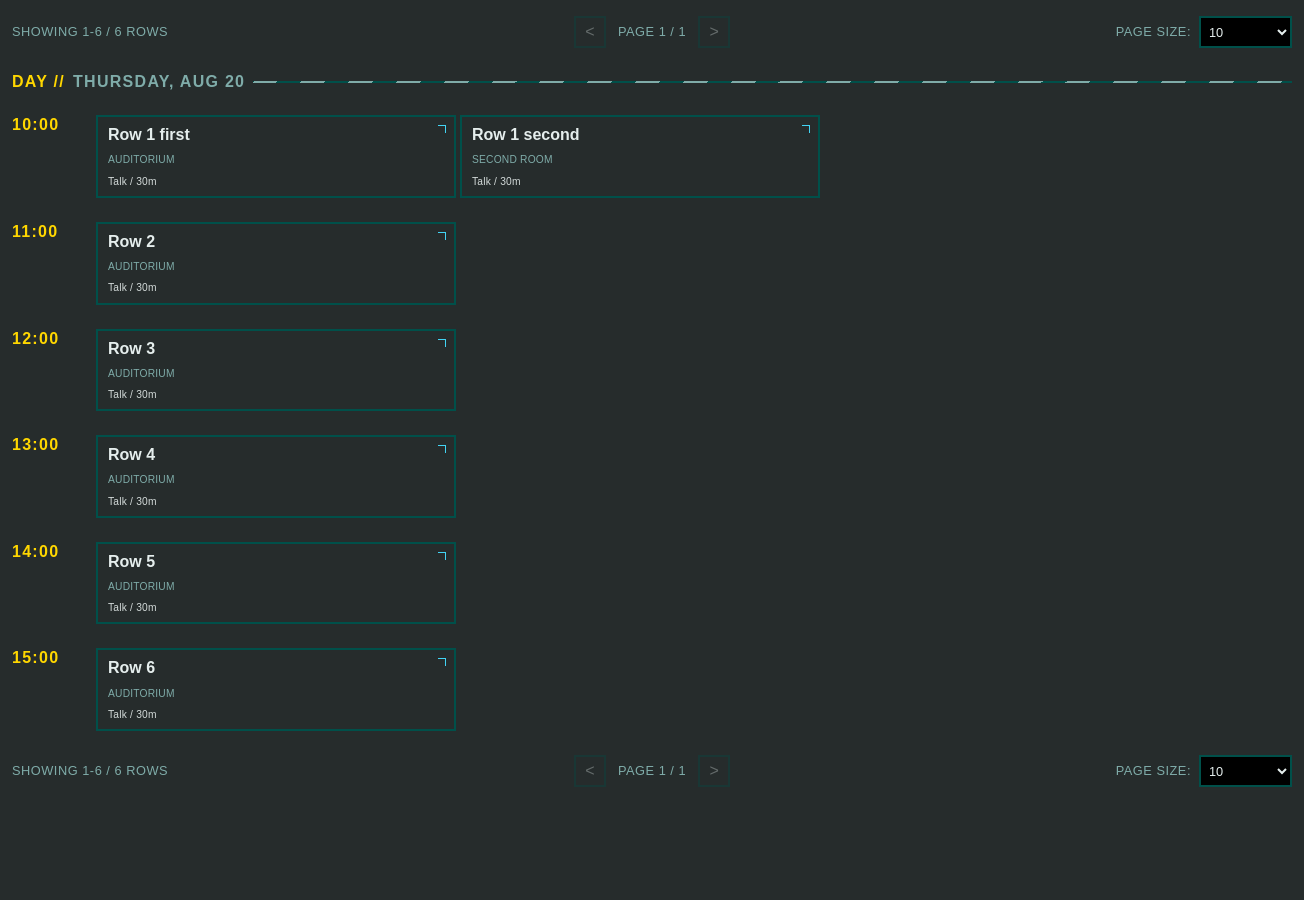
Test: Components / ListView › compact mode › should paginate by rows rather than events
Select "5" in the dropdown named "Page size (top)" at (1246, 32), box [1199,16,1292,48]
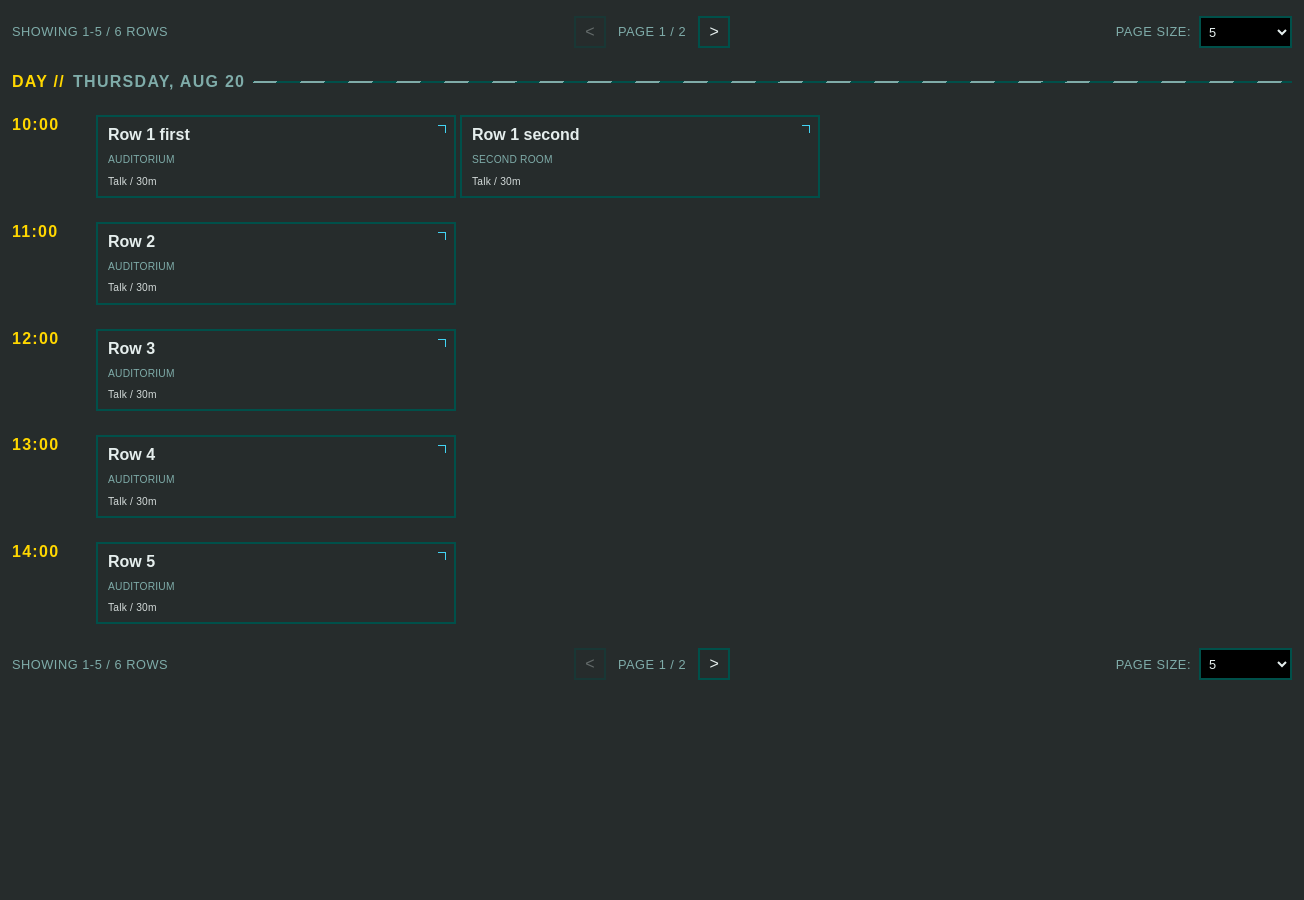
Expected: the text "Showing 1-5 / 6 rows" is shown 2 times, [12,24,168,39]; [12,657,168,672]
Expected: the link "Row 6" is gone
